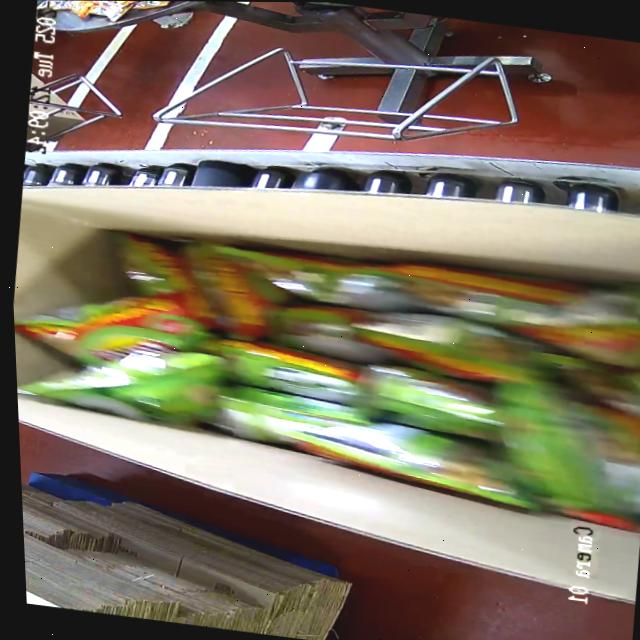YOGURT_HERB: (9, 209, 640, 525)
